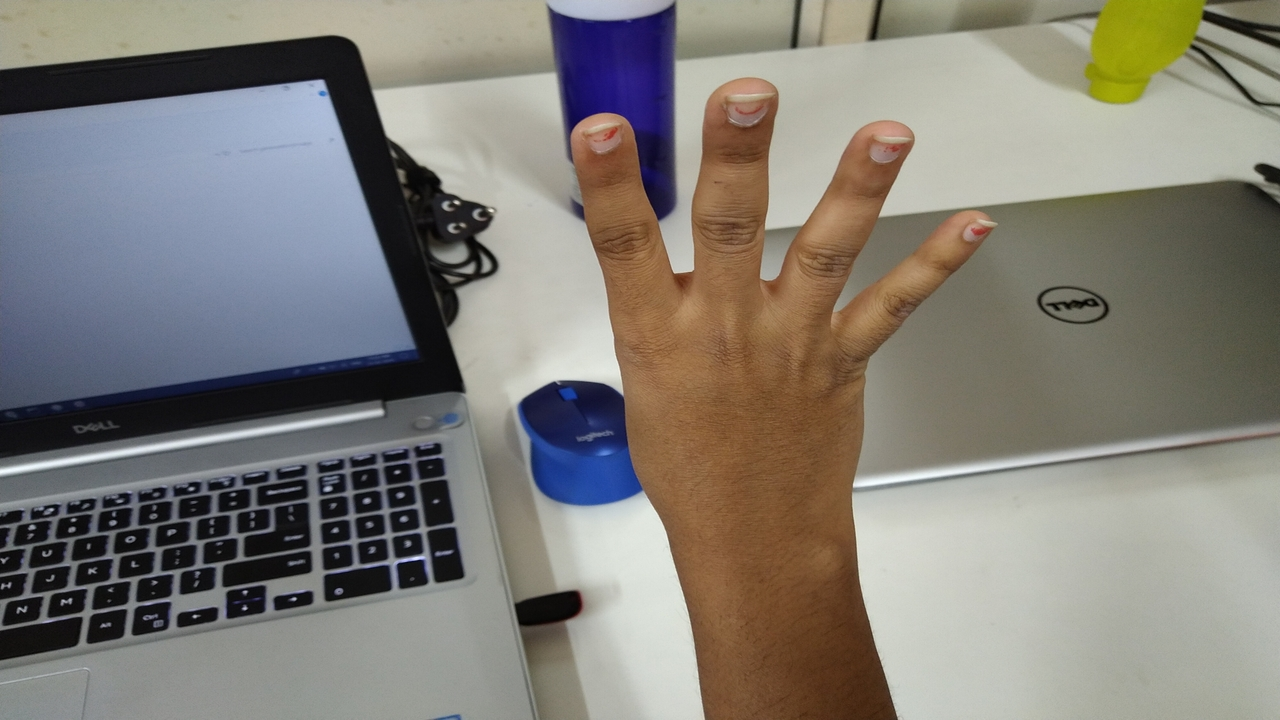fingertip: (708, 70, 786, 132), (842, 116, 924, 172), (568, 106, 640, 168), (936, 200, 1008, 256)
